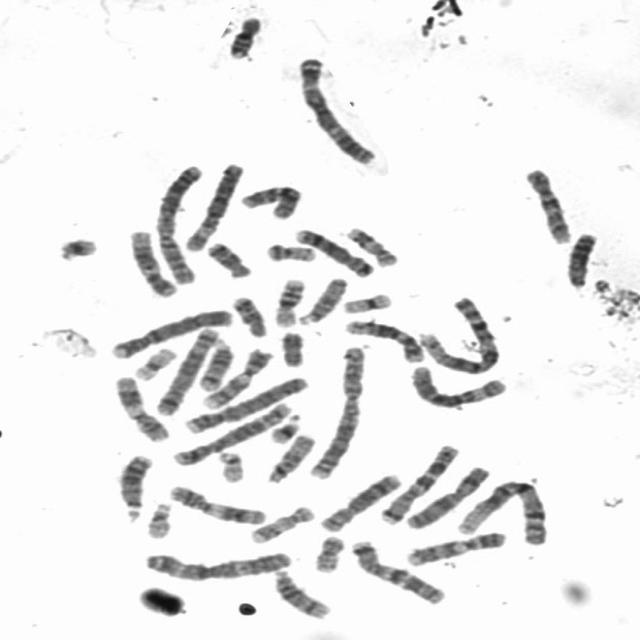A1: (411, 290, 503, 376), (450, 474, 551, 546)
A2: (302, 339, 370, 480), (148, 159, 206, 285)
A3: (290, 50, 379, 165), (136, 544, 295, 582)
B4: (178, 369, 312, 435), (105, 302, 236, 360)
B5: (165, 394, 297, 467), (149, 319, 222, 416)
C10: (517, 162, 575, 246), (234, 178, 304, 221)
C11: (161, 479, 269, 526), (108, 370, 172, 444)
C12: (336, 313, 426, 363), (122, 223, 180, 299)
C6: (178, 157, 245, 253), (403, 360, 510, 410)
C7: (372, 438, 462, 526), (344, 534, 449, 606)
C8: (312, 467, 406, 533), (288, 223, 377, 278)
C9: (194, 343, 276, 410), (398, 525, 510, 568)
D13: (111, 448, 155, 522), (559, 227, 601, 289)
D14: (266, 564, 334, 620), (191, 334, 236, 392)
D15: (259, 428, 318, 484), (292, 272, 350, 326)
E16: (266, 272, 308, 328), (222, 10, 265, 60)
E17: (242, 500, 317, 545), (340, 220, 400, 268)
E18: (199, 236, 254, 279), (225, 290, 269, 338)
F19: (126, 342, 179, 382), (336, 286, 394, 314)
F20: (306, 529, 348, 574), (258, 237, 319, 263)
G21: (49, 230, 101, 262), (262, 409, 305, 444)
G22: (138, 497, 174, 540), (210, 445, 247, 484)
X: (398, 459, 492, 531)
Y: (274, 326, 308, 368)
